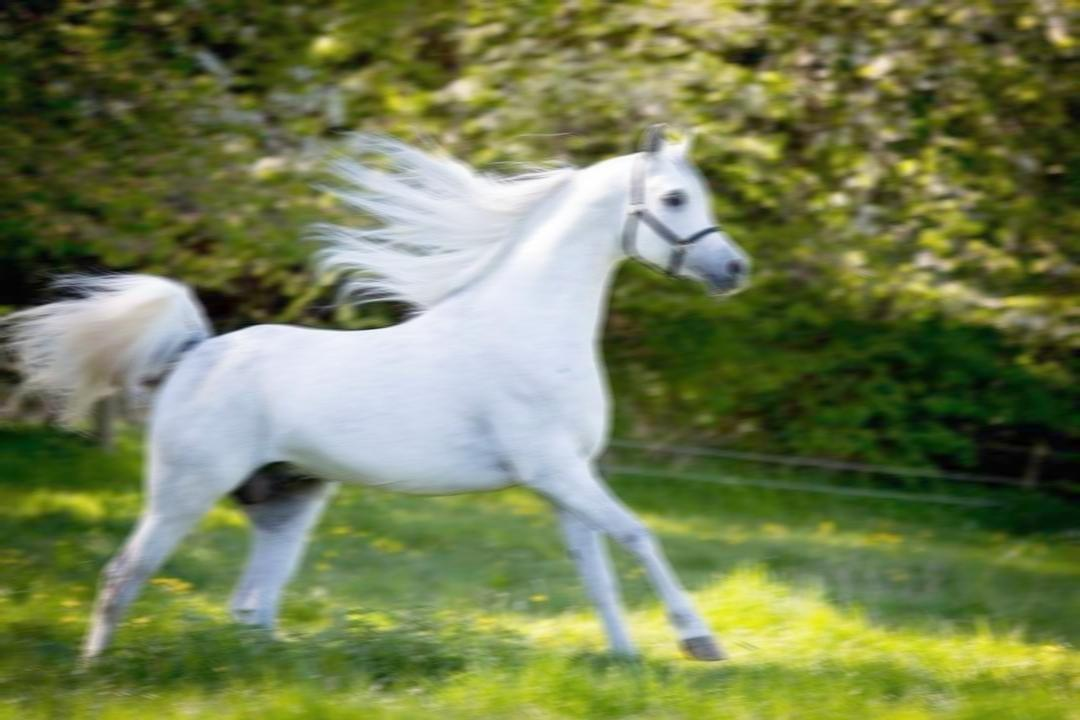horse: (0, 111, 755, 678)
